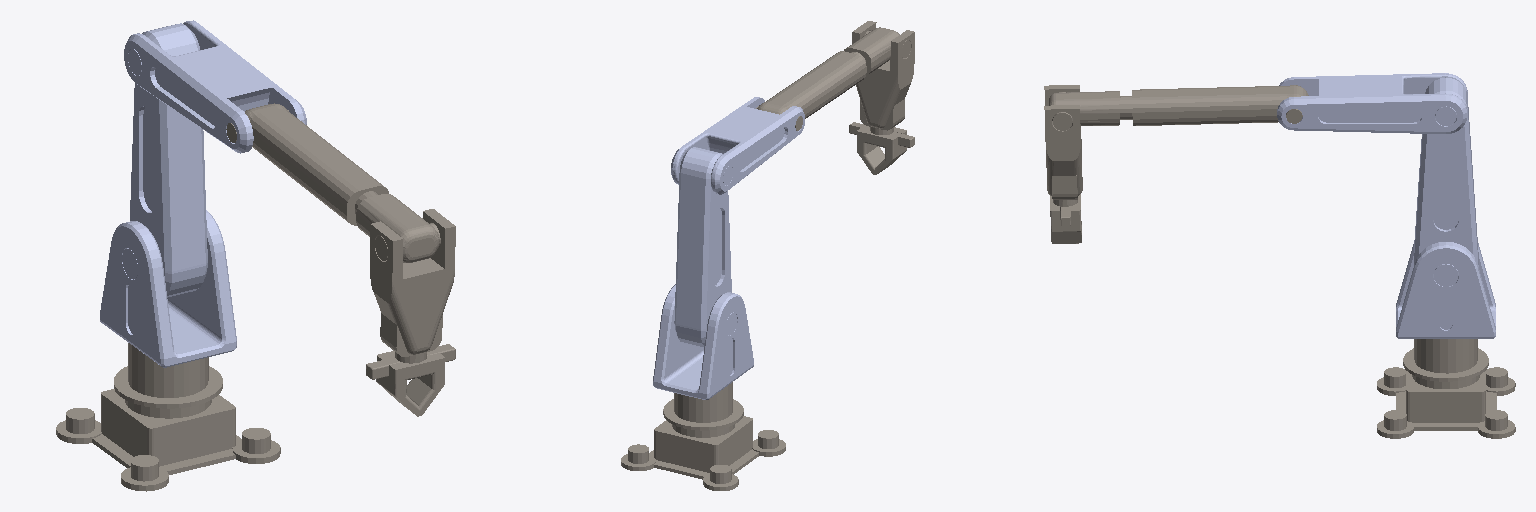
The robot description file, URDF, robot "ROBOT_URDF":
<?xml version="1.0" encoding="utf-8"?>
<!-- This URDF was automatically created by SolidWorks to URDF Exporter! Originally created by [author] ([email redacted]) 
     Commit Version: 1.6.0-1-g15f4949  Build Version: 1.6.7594.29634
     For more information, please see http://wiki.ros.org/sw_urdf_exporter -->
<robot
  name="ROBOT_URDF">

  <link name="world"/>
  <joint name="base_joint" type="fixed">
	<parent link="world"/>
	<child link="base_link"/>
	<origin rpy="0 0 0" xyz="0.0 0.0 0.0"/>
  </joint>

  <link
    name="base_link">
    <inertial>
      <origin
        xyz="4.1633E-17 0 0.11582"
        rpy="0 0 0" />
      <mass
        value="25" />
      <inertia
        ixx="3.8948"
        ixy="1.0435E-16"
        ixz="5.2941E-16"
        iyy="3.8948"
        iyz="7.5513E-16"
        izz="4.4192" />
    </inertial>
    <visual>
      <origin
        xyz="0 0 0"
        rpy="0 0 0" />
      <geometry>
        <mesh
          filename="package://ROBOT_URDF/meshes/base_link.STL" />
      </geometry>
      <material
        name="">
        <color
          rgba="0.64706 0.61961 0.58824 1" />
      </material>
    </visual>
    <collision>
      <origin
        xyz="0 0 0"
        rpy="0 0 0" />
      <geometry>
        <mesh
          filename="package://ROBOT_URDF/meshes/base_link.STL" />
      </geometry>
    </collision>
  </link>
  <link
    name="link_1">
    <inertial>
      <origin
        xyz="4.9234E-11 0.25596 5.0492E-10"
        rpy="0 0 0" />
      <mass
        value="17.439" />
      <inertia
        ixx="0.48938"
        ixy="-3.4442E-10"
        ixz="3.0905E-09"
        iyy="0.29622"
        iyz="4.4642E-10"
        izz="0.47585" />
    </inertial>
    <visual>
      <origin
        xyz="0 0 0"
        rpy="0 0 0" />
      <geometry>
        <mesh
          filename="package://ROBOT_URDF/meshes/link_1.STL" />
      </geometry>
      <material
        name="">
        <color
          rgba="0.79216 0.81961 0.93333 1" />
      </material>
    </visual>
    <collision>
      <origin
        xyz="0 0 0"
        rpy="0 0 0" />
      <geometry>
        <mesh
          filename="package://ROBOT_URDF/meshes/link_1.STL" />
      </geometry>
    </collision>
  </link>
  <joint
    name="joint_1"
    type="revolute">
    <origin
      xyz="0 0 0.20418"
      rpy="1.5708 0 1.5708" />
    <parent
      link="base_link" />
    <child
      link="link_1" />
    <axis
      xyz="0 1 0" />
    <limit
      lower="0"
      upper="6.283"
      effort="600"
      velocity="3" />
  </joint>
  <link
    name="link_2">
    <inertial>
      <origin
        xyz="4.1177E-09 0.28717 4.1633E-17"
        rpy="0 0 0" />
      <mass
        value="20" />
      <inertia
        ixx="1.8703"
        ixy="-2.4397E-08"
        ixz="-3.6992E-18"
        iyy="0.16879"
        iyz="-1.6658E-16"
        izz="1.9116" />
    </inertial>
    <visual>
      <origin
        xyz="0 0 0"
        rpy="0 0 0" />
      <geometry>
        <mesh
          filename="package://ROBOT_URDF/meshes/link_2.STL" />
      </geometry>
      <material
        name="">
        <color
          rgba="0.79216 0.81961 0.93333 1" />
      </material>
    </visual>
    <collision>
      <origin
        xyz="0 0 0"
        rpy="0 0 0" />
      <geometry>
        <mesh
          filename="package://ROBOT_URDF/meshes/link_2.STL" />
      </geometry>
    </collision>
  </link>
  <joint
    name="joint_2"
    type="revolute">
    <origin
      xyz="0 0.44368 0"
      rpy="0 0 0" />
    <parent
      link="link_1" />
    <child
      link="link_2" />
    <axis
      xyz="0 0 1" />
    <limit
      lower="-1.57"
      upper="1.57"
      effort="600"
      velocity="3" />
  </joint>
  <link
    name="link_3">
    <inertial>
      <origin
        xyz="-0.30674 2.2204E-16 3.4694E-16"
        rpy="0 0 0" />
      <mass
        value="14.238" />
      <inertia
        ixx="0.10962"
        ixy="-3.0948E-13"
        ixz="-1.1673E-15"
        iyy="0.42271"
        iyz="-2.5111E-09"
        izz="0.37203" />
    </inertial>
    <visual>
      <origin
        xyz="0 0 0"
        rpy="0 0 0" />
      <geometry>
        <mesh
          filename="package://ROBOT_URDF/meshes/link_3.STL" />
      </geometry>
      <material
        name="">
        <color
          rgba="0.79216 0.81961 0.93333 1" />
      </material>
    </visual>
    <collision>
      <origin
        xyz="0 0 0"
        rpy="0 0 0" />
      <geometry>
        <mesh
          filename="package://ROBOT_URDF/meshes/link_3.STL" />
      </geometry>
    </collision>
  </link>
  <joint
    name="joint_3"
    type="revolute">
    <origin
      xyz="0 0.68571 0"
      rpy="0 0 0" />
    <parent
      link="link_2" />
    <child
      link="link_3" />
    <axis
      xyz="0 0 1" />
    <limit
      lower="-3.142"
      upper="0.785"
      effort="550"
      velocity="3" />
  </joint>
  <link
    name="link_4">
    <inertial>
      <origin
        xyz="-0.24009 -3.8215E-11 -6.6828E-11"
        rpy="0 0 0" />
      <mass
        value="10" />
      <inertia
        ixx="0.23135"
        ixy="5.4326E-10"
        ixz="7.1373E-10"
        iyy="2.7601"
        iyz="-4.604E-08"
        izz="2.6782" />
    </inertial>
    <visual>
      <origin
        xyz="0 0 0"
        rpy="0 0 0" />
      <geometry>
        <mesh
          filename="package://ROBOT_URDF/meshes/link_4.STL" />
      </geometry>
      <material
        name="">
        <color
          rgba="0.64706 0.61961 0.58824 1" />
      </material>
    </visual>
    <collision>
      <origin
        xyz="0 0 0"
        rpy="0 0 0" />
      <geometry>
        <mesh
          filename="package://ROBOT_URDF/meshes/link_4.STL" />
      </geometry>
    </collision>
  </link>
  <joint
    name="joint_4"
    type="revolute">
    <origin
      xyz="-0.6 0 0"
      rpy="0 0 0.028575" />
    <parent
      link="link_3" />
    <child
      link="link_4" />
    <axis
      xyz="0 0 1" />
    <limit
      lower="-1.57"
      upper="1.57"
      effort="500"
      velocity="3" />
  </joint>
  <link
    name="link_5">
    <inertial>
      <origin
        xyz="0.4852 0.0575 -2.6151E-08"
        rpy="0 0 0" />
      <mass
        value="7" />
      <inertia
        ixx="0.1363"
        ixy="8.2801E-08"
        ixz="9.4865E-08"
        iyy="3.488"
        iyz="1.0712E-06"
        izz="3.4449" />
    </inertial>
    <visual>
      <origin
        xyz="0 0 0"
        rpy="0 0 0" />
      <geometry>
        <mesh
          filename="package://ROBOT_URDF/meshes/link_5.STL" />
      </geometry>
      <material
        name="">
        <color
          rgba="0.64706 0.61961 0.58824 1" />
      </material>
    </visual>
    <collision>
      <origin
        xyz="0 0 0"
        rpy="0 0 0" />
      <geometry>
        <mesh
          filename="package://ROBOT_URDF/meshes/link_5.STL" />
      </geometry>
    </collision>
  </link>
  <joint
    name="joint_5"
    type="prismatic">
    <origin
      xyz="-0.17029 -0.0575 0"
      rpy="3.1416 0 3.1416" />
    <parent
      link="link_4" />
    <child
      link="link_5" />
    <axis
      xyz="-1 0 0" />
    <limit
      lower="-0.4"
      upper="0"
      effort="500"
      velocity="0.5" />
  </joint>
  <link
    name="link_6">
    <inertial>
      <origin
        xyz="1.5111E-07 -1.4058E-06 0.20422"
        rpy="0 0 0" />
      <mass
        value="5" />
      <inertia
        ixx="0.96634"
        ixy="-2.3215E-06"
        ixz="5.6083E-07"
        iyy="1.1351"
        iyz="2.0425E-05"
        izz="0.37223" />
    </inertial>
    <visual>
      <origin
        xyz="0 0 0"
        rpy="0 0 0" />
      <geometry>
        <mesh
          filename="package://ROBOT_URDF/meshes/link_6.STL" />
      </geometry>
      <material
        name="">
        <color
          rgba="0.64706 0.61961 0.58824 1" />
      </material>
    </visual>
    <collision>
      <origin
        xyz="0 0 0"
        rpy="0 0 0" />
      <geometry>
        <mesh
          filename="package://ROBOT_URDF/meshes/link_6.STL" />
      </geometry>
    </collision>
  </link>
  <joint
    name="joint_6"
    type="revolute">
    <origin
      xyz="0.74623 0.0575 0"
      rpy="1.5708 1.5708 0" />
    <parent
      link="link_5" />
    <child
      link="link_6" />
    <axis
      xyz="1 0 0" />
    <limit
      lower="-4.04"
      upper="0.785"
      effort="400"
      velocity="3" />
  </joint>
  <link
    name="gripper_right">
    <inertial>
      <origin
        xyz="-0.047546 0.06 0.07387"
        rpy="0 0 0" />
      <mass
        value="0.3" />
      <inertia
        ixx="0.027332"
        ixy="3.1919E-09"
        ixz="-0.0024985"
        iyy="0.021983"
        iyz="1.4201E-08"
        izz="0.014327" />
    </inertial>
    <visual>
      <origin
        xyz="0 0 0"
        rpy="0 0 0" />
      <geometry>
        <mesh
          filename="package://ROBOT_URDF/meshes/gripper_right.STL" />
      </geometry>
      <material
        name="">
        <color
          rgba="0.64706 0.61961 0.58824 1" />
      </material>
    </visual>
    <collision>
      <origin
        xyz="0 0 0"
        rpy="0 0 0" />
      <geometry>
        <mesh
          filename="package://ROBOT_URDF/meshes/gripper_right.STL" />
      </geometry>
    </collision>
  </link>
  <joint
    name="joint_7"
    type="prismatic">
    <origin
      xyz="0 -0.06 0.4"
      rpy="0 0 0" />
    <parent
      link="link_6" />
    <child
      link="gripper_right" />
    <axis
      xyz="-1 0 0" />
    <limit
      lower="0"
      upper="0.05"
      effort="300"
      velocity="0.5" />
  </joint>
  <link
    name="gripper_left">
    <inertial>
      <origin
        xyz="-0.047546 0.06 0.07387"
        rpy="0 0 0" />
      <mass
        value="0.3" />
      <inertia
        ixx="0.027332"
        ixy="3.1626E-09"
        ixz="-0.0024985"
        iyy="0.021983"
        iyz="1.4212E-08"
        izz="0.014327" />
    </inertial>
    <visual>
      <origin
        xyz="0 0 0"
        rpy="0 0 0" />
      <geometry>
        <mesh
          filename="package://ROBOT_URDF/meshes/gripper_left.STL" />
      </geometry>
      <material
        name="">
        <color
          rgba="0.64706 0.61961 0.58824 1" />
      </material>
    </visual>
    <collision>
      <origin
        xyz="0 0 0"
        rpy="0 0 0" />
      <geometry>
        <mesh
          filename="package://ROBOT_URDF/meshes/gripper_left.STL" />
      </geometry>
    </collision>
  </link>
  <joint
    name="joint_8"
    type="prismatic">
    <origin
      xyz="0 0.06 0.4"
      rpy="0 0 3.1416" />
    <parent
      link="link_6" />
    <child
      link="gripper_left" />
    <axis
      xyz="1 0 0" />
    <limit
      lower="-0.05"
      upper="0"
      effort="300"
      velocity="1" />
  </joint>

  <transmission name="link_1_trans">
	<type>transmission_interface/SimpleTransmission</type>
	<joint name="joint_1">
		<hardwareInterface>hardware_interface/PositionJointInterface</hardwareInterface>
	</joint>
	<actuator name="link_1_motor">
		<hardwareInterface>hardware_interface/PositionJointInterface</hardwareInterface>
		<mechanicalReduction>1</mechanicalReduction>
	</actuator>
  </transmission>

  <transmission name="link_2_trans">
	<type>transmission_interface/SimpleTransmission</type>
	<joint name="joint_2">
		<hardwareInterface>hardware_interface/PositionJointInterface</hardwareInterface>
	</joint>
	<actuator name="link_2_motor">
		<hardwareInterface>hardware_interface/PositionJointInterface</hardwareInterface>
		<mechanicalReduction>1</mechanicalReduction>
	</actuator>
  </transmission>

  <transmission name="link_3_trans">
	<type>transmission_interface/SimpleTransmission</type>
	<joint name="joint_3">
		<hardwareInterface>hardware_interface/PositionJointInterface</hardwareInterface>
	</joint>
	<actuator name="link_3_motor">
		<hardwareInterface>hardware_interface/PositionJointInterface</hardwareInterface>
		<mechanicalReduction>1</mechanicalReduction>
	</actuator>
  </transmission>

  <transmission name="link_4_trans">
	<type>transmission_interface/SimpleTransmission</type>
	<joint name="joint_4">
		<hardwareInterface>hardware_interface/PositionJointInterface</hardwareInterface>
	</joint>
	<actuator name="link_4_motor">
		<hardwareInterface>hardware_interface/PositionJointInterface</hardwareInterface>
		<mechanicalReduction>1</mechanicalReduction>
	</actuator>
  </transmission>

  <transmission name="link_5_trans">
	<type>transmission_interface/SimpleTransmission</type>
	<joint name="joint_5">
		<hardwareInterface>hardware_interface/PositionJointInterface</hardwareInterface>
	</joint>
	<actuator name="link_5_motor">
		<hardwareInterface>hardware_interface/PositionJointInterface</hardwareInterface>
		<mechanicalReduction>1</mechanicalReduction>
	</actuator>
  </transmission>

  <transmission name="link_6_trans">
	<type>transmission_interface/SimpleTransmission</type>
	<joint name="joint_6">
		<hardwareInterface>hardware_interface/PositionJointInterface</hardwareInterface>
	</joint>
	<actuator name="link_6_motor">
		<hardwareInterface>hardware_interface/PositionJointInterface</hardwareInterface>
		<mechanicalReduction>1</mechanicalReduction>
	</actuator>
  </transmission>

  <transmission name="link_7_trans">
	<type>transmission_interface/SimpleTransmission</type>
	<joint name="joint_7">
		<hardwareInterface>hardware_interface/PositionJointInterface</hardwareInterface>
	</joint>
	<actuator name="link_7_motor">
		<hardwareInterface>hardware_interface/PositionJointInterface</hardwareInterface>
		<mechanicalReduction>1</mechanicalReduction>
	</actuator>
  </transmission>

  <transmission name="link_8_trans">
	<type>transmission_interface/SimpleTransmission</type>
	<joint name="joint_8">
		<hardwareInterface>hardware_interface/PositionJointInterface</hardwareInterface>
	</joint>
	<actuator name="link_8_motor">
		<hardwareInterface>hardware_interface/PositionJointInterface</hardwareInterface>
		<mechanicalReduction>1</mechanicalReduction>
	</actuator>
  </transmission>

  <gazebo>
	<plugin name="control"
		filename="libgazebo_ros_control.so">
		<robotNamespace>/</robotNamespace>
	</plugin>
  </gazebo>

  <gazebo reference="link_1">
	<selfCollide>true</selfCollide>
  </gazebo>

  <gazebo reference="link_2">
	<selfCollide>true</selfCollide>
  </gazebo>

  <gazebo reference="link_3">
	<selfCollide>true</selfCollide>
  </gazebo>

  <gazebo reference="link_4">
	<selfCollide>true</selfCollide>
  </gazebo>

  <gazebo reference="link_5">
	<selfCollide>true</selfCollide>
  </gazebo>

  <gazebo reference="link_6">
	<selfCollide>true</selfCollide>
  </gazebo>

  <gazebo reference="gripper_right">
	<selfCollide>true</selfCollide>
  </gazebo>

  <gazebo reference="gripper_left">
	<selfCollide>true</selfCollide>
  </gazebo>


</robot>

--- Render facts (derived) ---
Views: 3 orthographic renders of the robot side by side, from view 1: azimuth 30°, elevation 25°; view 2: azimuth 150°, elevation 25°; view 3: azimuth 270°, elevation 25°.
Model ROBOT_URDF with 10 links and 9 joints (5 revolute, 3 prismatic, 1 fixed), rooted at world, posed all joints at 0.
Visible links, largest first — view 1: base_link, link_2, link_1, link_3, link_6, link_4, link_5, gripper_left, gripper_right; view 2: base_link, link_2, link_1, link_3, link_6, link_4, link_5, gripper_left, gripper_right; view 3: base_link, link_3, link_2, link_1, link_4, link_6, link_5, gripper_left.
Boxes of the visible links, x1,y1,x2,y2 form: base_link: (56, 343, 280, 491); link_2: (122, 23, 207, 297); link_1: (100, 210, 236, 367); link_3: (124, 20, 306, 153); link_6: (366, 209, 455, 379); link_4: (226, 103, 388, 225); link_5: (355, 191, 440, 262); gripper_left: (406, 353, 444, 415); gripper_right: (376, 351, 420, 416); base_link: (621, 382, 785, 490); link_2: (674, 147, 737, 348); link_1: (653, 284, 753, 399); link_3: (671, 97, 804, 194); link_6: (849, 21, 914, 147); link_4: (756, 51, 866, 130); link_5: (844, 27, 910, 75); gripper_left: (857, 128, 884, 174); gripper_right: (874, 127, 906, 174); base_link: (1377, 339, 1515, 438); link_3: (1277, 73, 1467, 133); link_2: (1414, 78, 1478, 286); link_1: (1396, 242, 1495, 338); link_4: (1132, 85, 1308, 125); link_6: (1044, 85, 1082, 225); link_5: (1049, 91, 1132, 130); gripper_left: (1050, 201, 1081, 243).
Size in the robot's own frame: 0.5488 by 1.86 by 1.42 metres.
Meshes: 9 distinct files referenced, 9 mesh visuals loaded (9 binary STL).